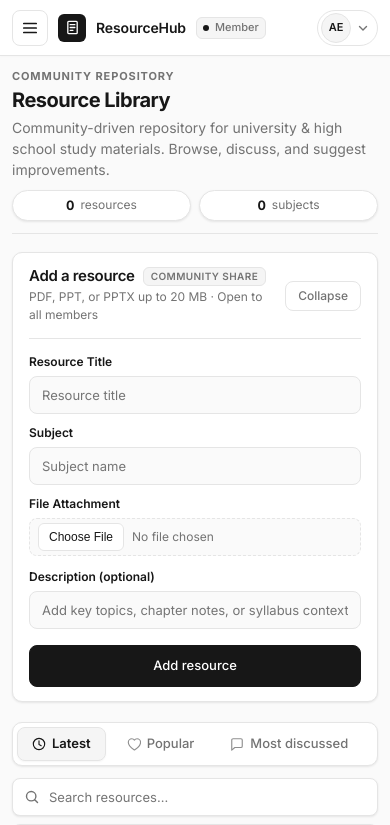
Test: ResourceHub Universal Community Platform UI & Access Control › responsive mobile account dropdown menu toggles and shows navigation options
The image size is (390, 825).
Expected: the heading "Resource Library" is shown, [12,88,170,112]
Open dropdown
Click the button with aria-label "user account menu" at (348, 28), box [317,10,378,46]
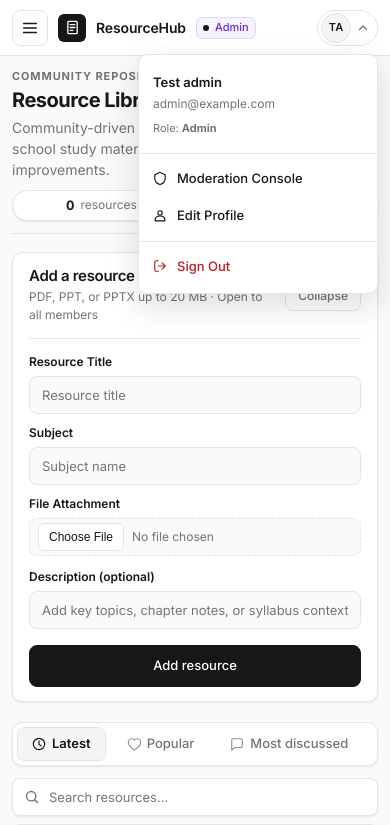
Result: the menu named "user menu" is shown at [138,54,378,294]
Result: the menu item "Moderation Console" is shown at [139,160,377,197]
Result: the menu item "Edit Profile" is shown at [139,197,377,234]
Close on trigger click or Escape
Press Escape
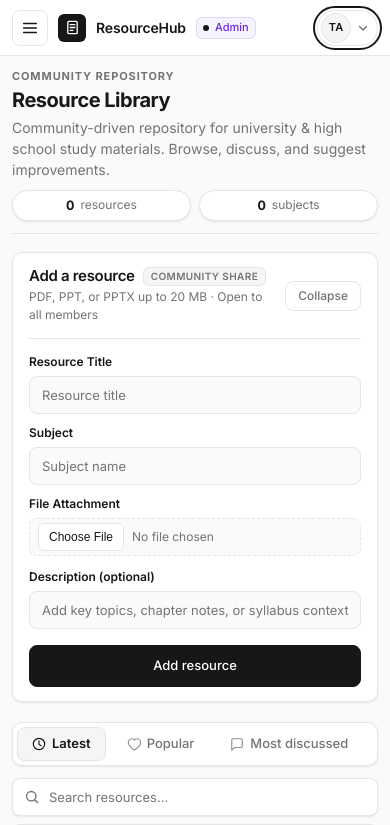
Result: the menu "user menu" is gone
